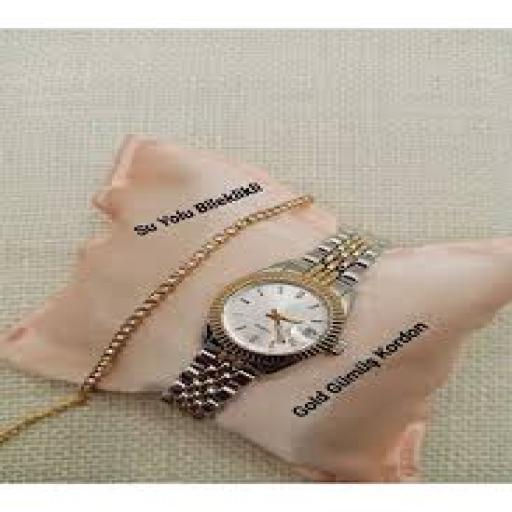KolSaati: (165, 231, 429, 423)
